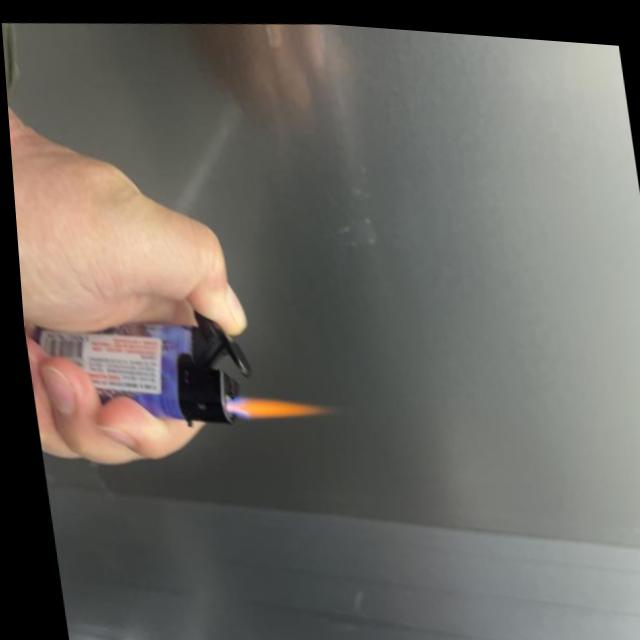Fire: (225, 383, 335, 422)
